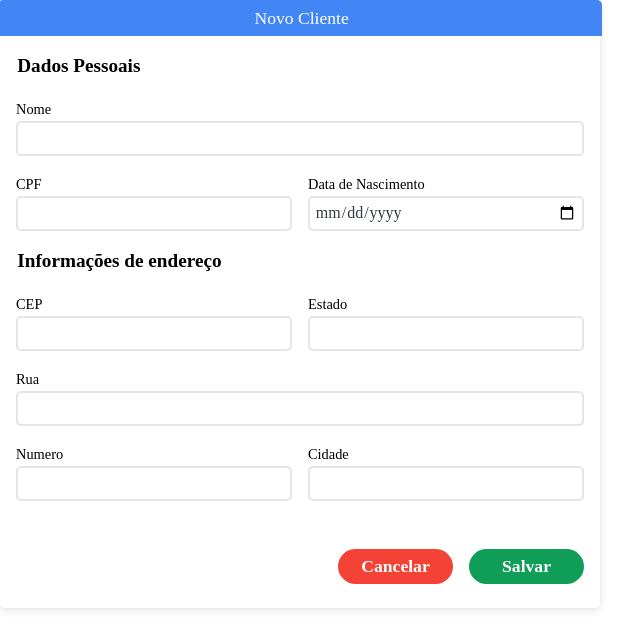
Test: <AddClienteForm /> › deve buscar CEP e preencher todos os campos possíveis se for válido
The image size is (619, 629).
Type "01001-000" into the field with id "cep" at (154, 334), box [16,316,292,351]
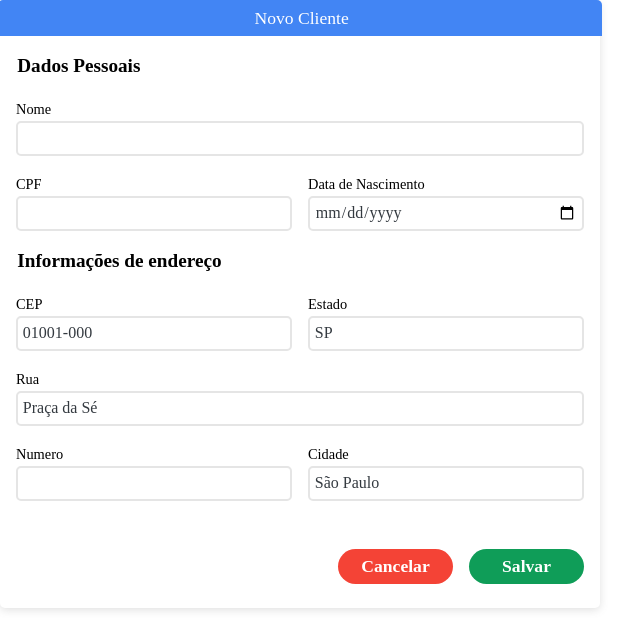
Check: the field with id "rua" holds "Praça da Sé", box [16,391,584,426]
Check: the field with id "cidade" holds "São Paulo", box [308,466,584,501]
Check: the field with id "estado" holds "SP", box [308,316,584,351]
